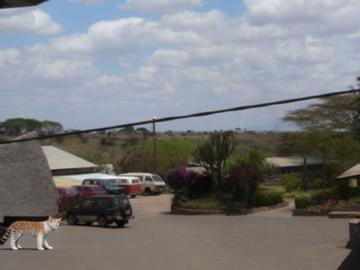car: (66, 195, 135, 231), (118, 172, 167, 198), (84, 180, 128, 198), (115, 176, 144, 198), (73, 185, 107, 197), (57, 187, 76, 202)
cat: (2, 216, 62, 250)
